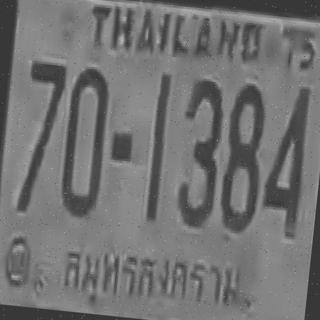N00: (58, 65, 110, 216)
N01: (144, 71, 170, 220)
N03: (173, 77, 225, 226)
N04: (259, 81, 312, 237)
N07: (14, 57, 67, 212), (21, 58, 67, 165)
N08: (217, 81, 268, 230)
P59: (55, 234, 247, 310)
